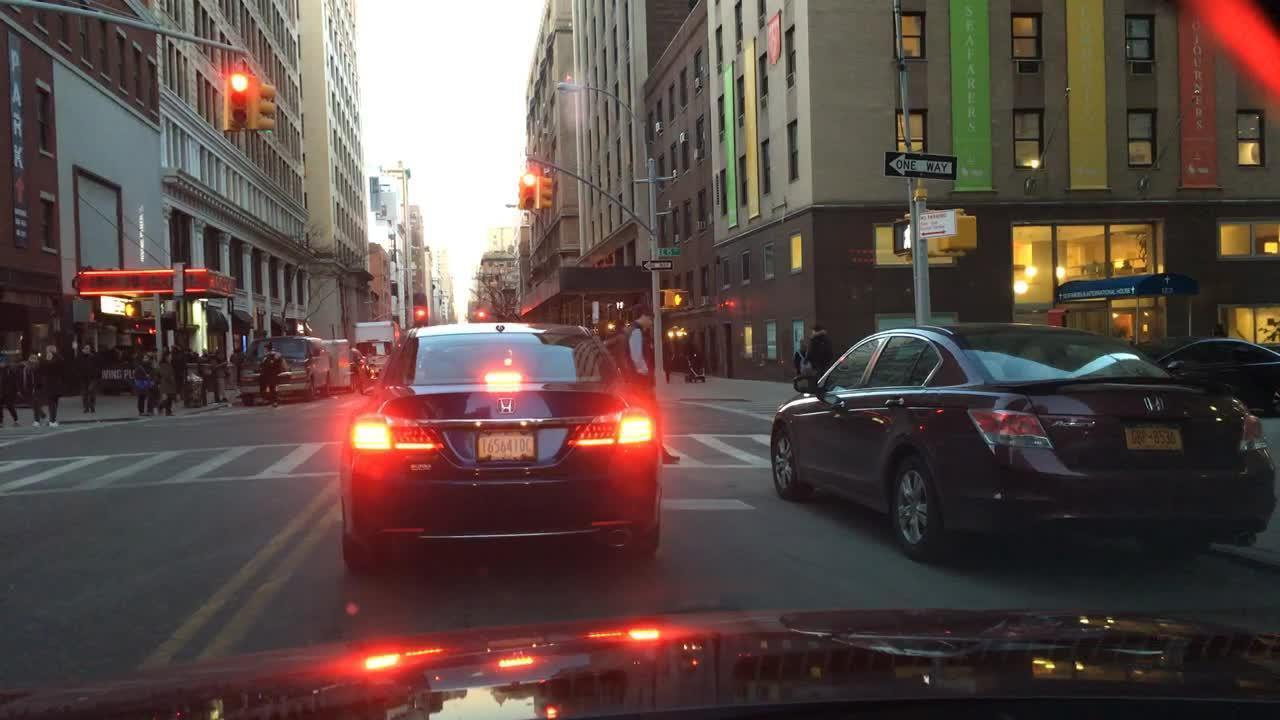Honda: (1122, 380, 1178, 426), (481, 391, 526, 430)
